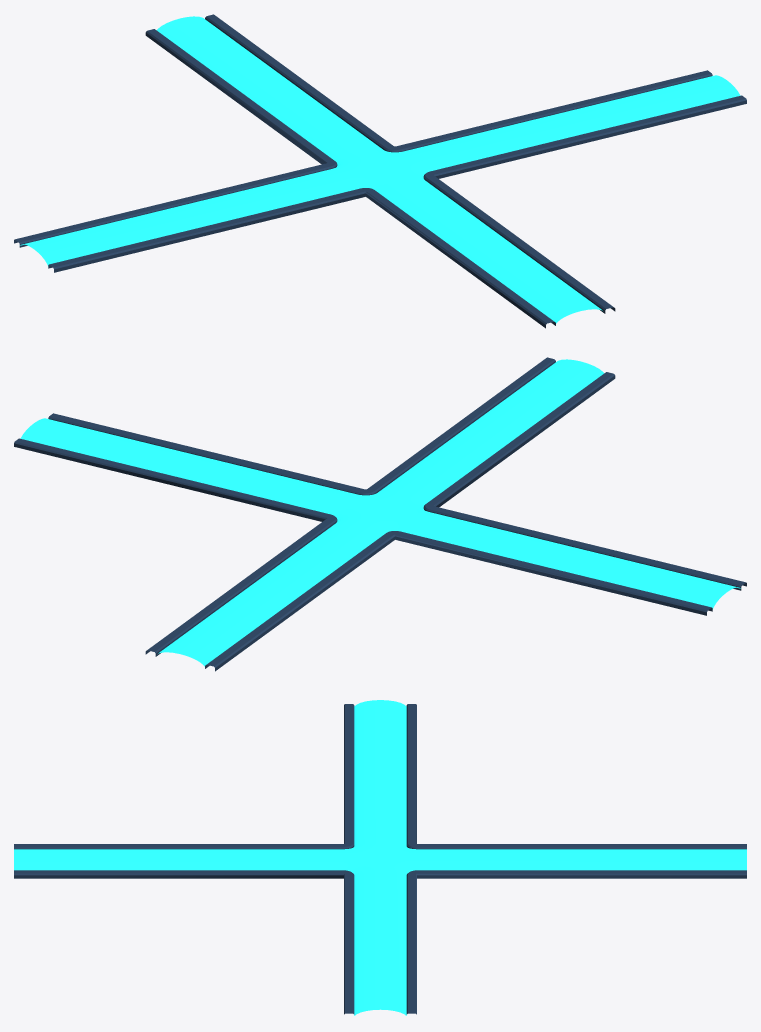
File: Light_Trim_01_RoundCrossX.glb
3 views of the same model, one above another, from view 1: azimuth 30°, elevation 25°; view 2: azimuth 150°, elevation 25°; view 3: azimuth 270°, elevation 25° (orthographic). The views are drawn at different scales.
Parts seen in each view (by area): view 1: Light_Trim_01_RoundCrossX.001; view 2: Light_Trim_01_RoundCrossX.001; view 3: Light_Trim_01_RoundCrossX.001.
Boxes of the visible parts, <box> form: Light_Trim_01_RoundCrossX.001: <box>14,14,746,328</box>; Light_Trim_01_RoundCrossX.001: <box>14,357,746,671</box>; Light_Trim_01_RoundCrossX.001: <box>14,700,746,1015</box>.
Size of the model in its own units: 1 by 0.0123 by 1.
